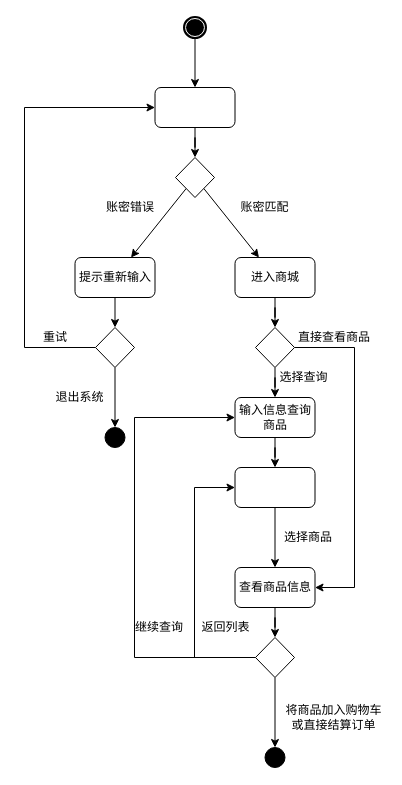
This 402x785 diagram has some shape labels left out. Each missing label, with the centre of its shape:
显示商品列表: (274,487)
用户输入账号密码登录: (194,107)
